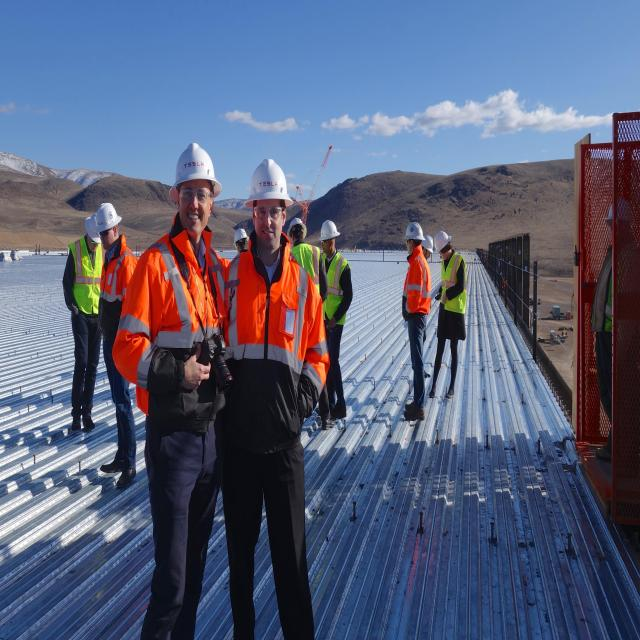Vest: (227, 246, 312, 423), (148, 246, 224, 415), (69, 236, 109, 316), (324, 255, 350, 328), (406, 248, 432, 315), (439, 259, 466, 315)
